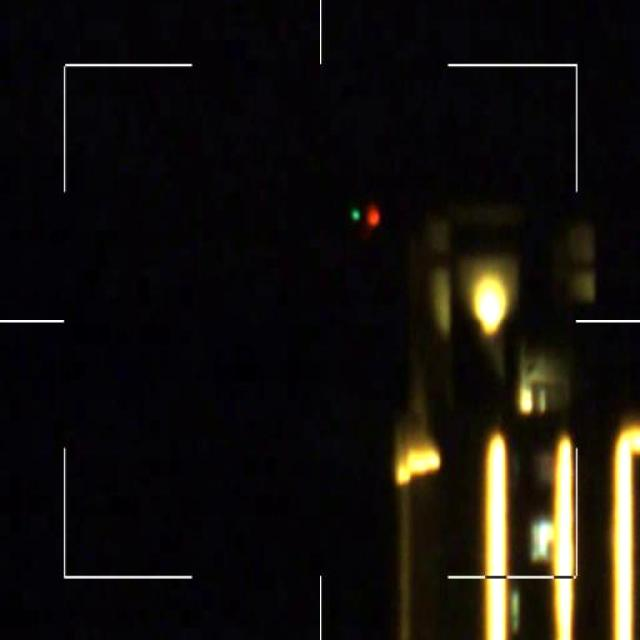bird: (349, 201, 380, 245)
